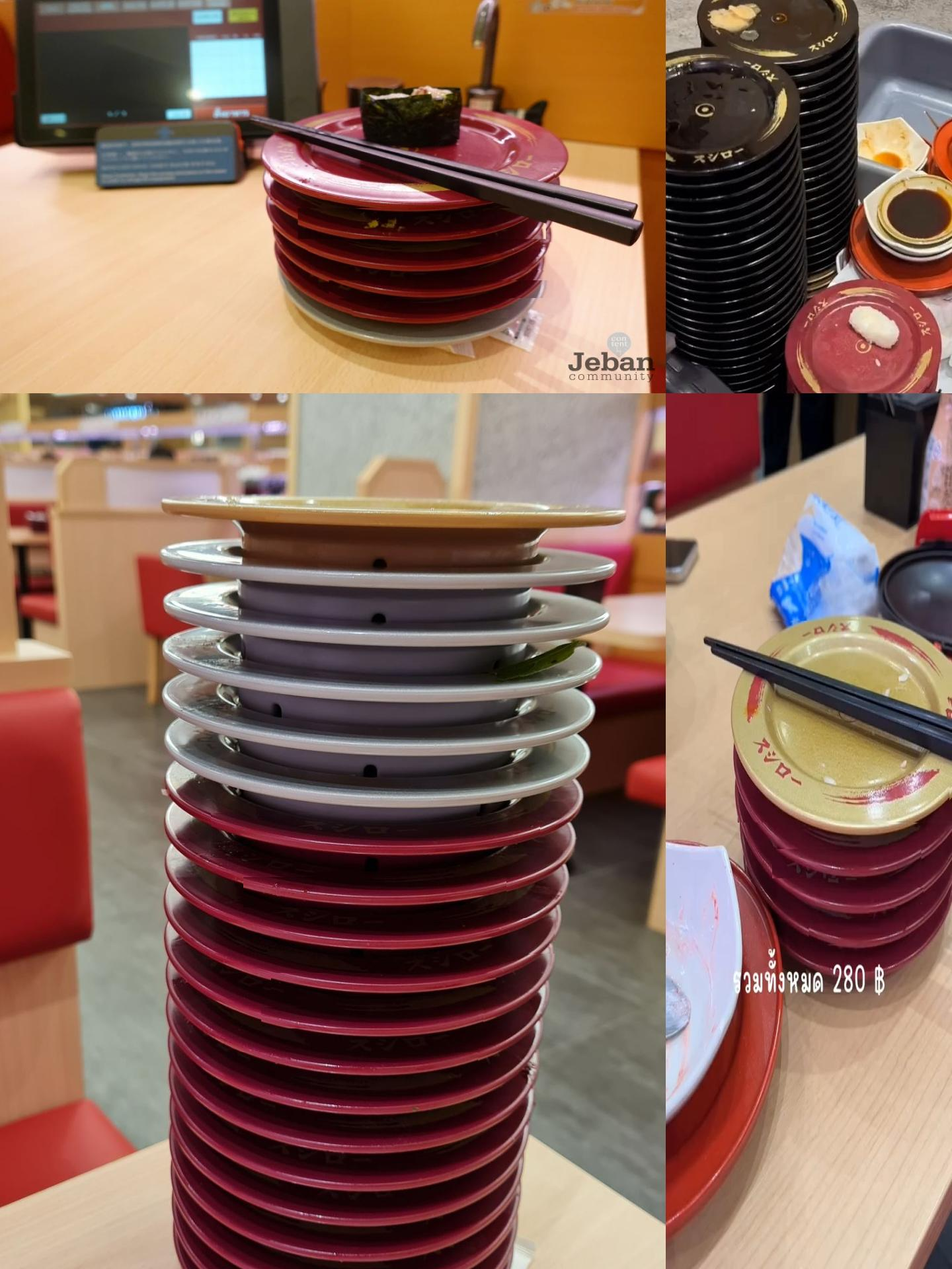Janback: (666, 57, 777, 154), (719, 0, 858, 63), (666, 167, 754, 180), (666, 195, 760, 205), (666, 210, 744, 220), (666, 182, 751, 191), (669, 224, 749, 233), (792, 64, 834, 80), (670, 246, 743, 255), (802, 81, 844, 93), (677, 260, 744, 267), (683, 289, 735, 298), (682, 280, 757, 286), (808, 207, 836, 223), (686, 301, 742, 308), (808, 189, 842, 200), (680, 271, 739, 277), (673, 236, 742, 241), (808, 178, 845, 187), (806, 125, 838, 135), (809, 140, 839, 150), (801, 107, 838, 115), (815, 253, 835, 267), (812, 236, 835, 247), (810, 227, 835, 236), (814, 247, 839, 256), (803, 97, 834, 104), (805, 119, 841, 124), (808, 202, 841, 207), (804, 165, 829, 171), (808, 154, 831, 160), (808, 222, 839, 226)
Jangold: (151, 476, 625, 552)
Janred: (269, 139, 556, 201), (210, 813, 542, 859), (812, 293, 928, 393), (244, 918, 557, 954), (238, 877, 512, 908), (293, 208, 552, 240), (235, 1052, 482, 1081), (307, 243, 555, 271), (270, 1169, 516, 1194), (268, 973, 499, 996), (265, 1203, 467, 1229), (256, 1007, 489, 1029), (250, 1128, 490, 1149), (326, 280, 556, 299), (267, 1244, 448, 1266), (275, 1098, 473, 1117), (349, 309, 513, 319)
Janwhite: (188, 605, 612, 656), (189, 562, 607, 606), (191, 663, 584, 707), (209, 757, 582, 798), (197, 711, 575, 750), (300, 331, 561, 351)
